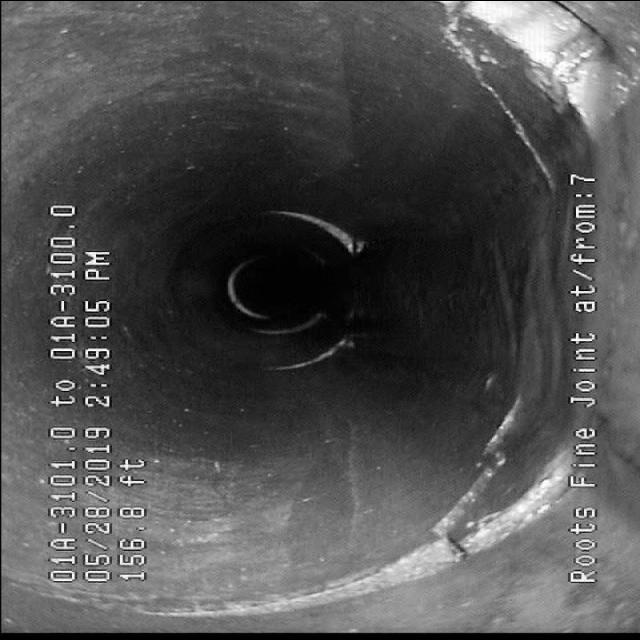Crack: (422, 25, 544, 178)
Fracture: (400, 314, 542, 556)
